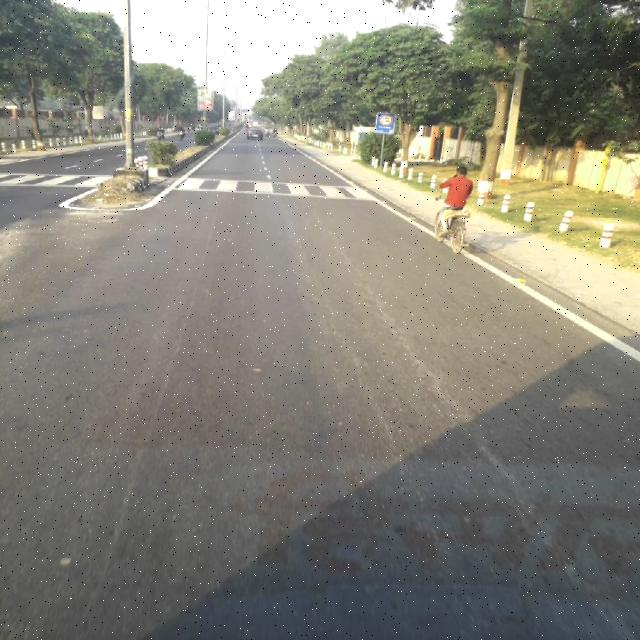D00: (310, 244, 594, 608), (75, 196, 222, 626)
